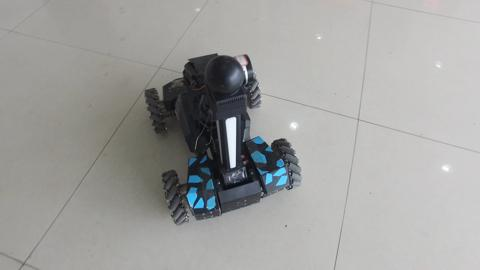chariot: (102, 40, 299, 226)
